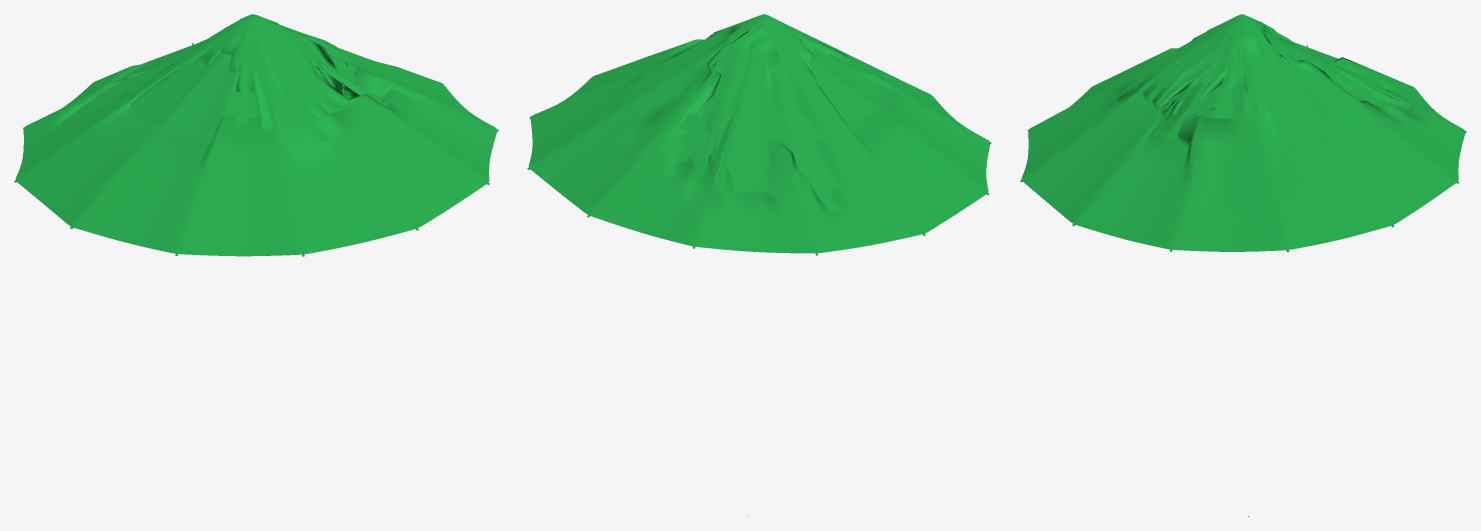
The model's file is umbrella.obj.
3 views of the same model, side by side, from view 1: azimuth 30°, elevation 25°; view 2: azimuth 150°, elevation 25°; view 3: azimuth 270°, elevation 25° (orthographic). The views are drawn at different scales.
Visible parts, largest first — view 1: 10243_Patio_Umbrella_Open_v1_Iteration2.001; view 2: 10243_Patio_Umbrella_Open_v1_Iteration2.001; view 3: 10243_Patio_Umbrella_Open_v1_Iteration2.001.
Part boxes in pixels (x1,y1,x2,y2): 10243_Patio_Umbrella_Open_v1_Iteration2.001: (14, 14, 498, 516); 10243_Patio_Umbrella_Open_v1_Iteration2.001: (527, 14, 991, 516); 10243_Patio_Umbrella_Open_v1_Iteration2.001: (1020, 14, 1466, 516).
Bounding box in the file's own units: 16.77 × 19.47 × 15.87.
Materials: 1 (1 with a texture image).
